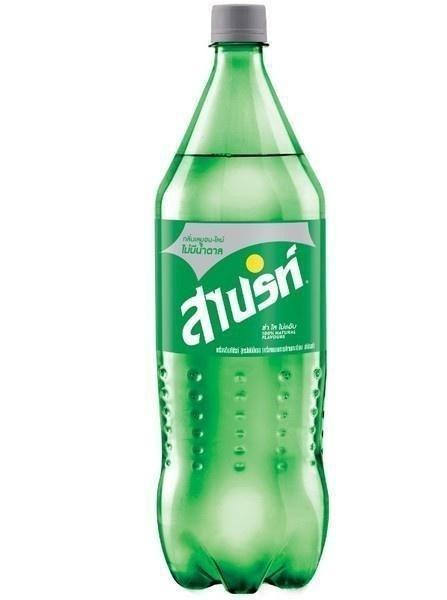bottle-plastic: (147, 0, 332, 598)
